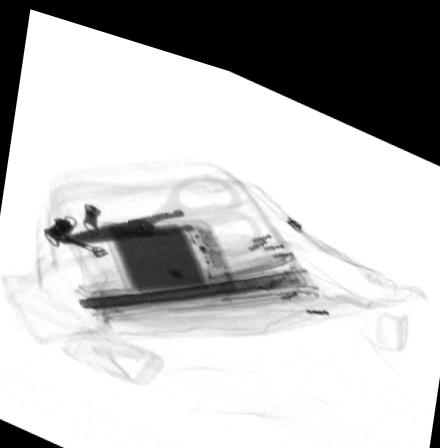Powerbank: (100, 205, 237, 288)
Scissors: (60, 160, 262, 241)
